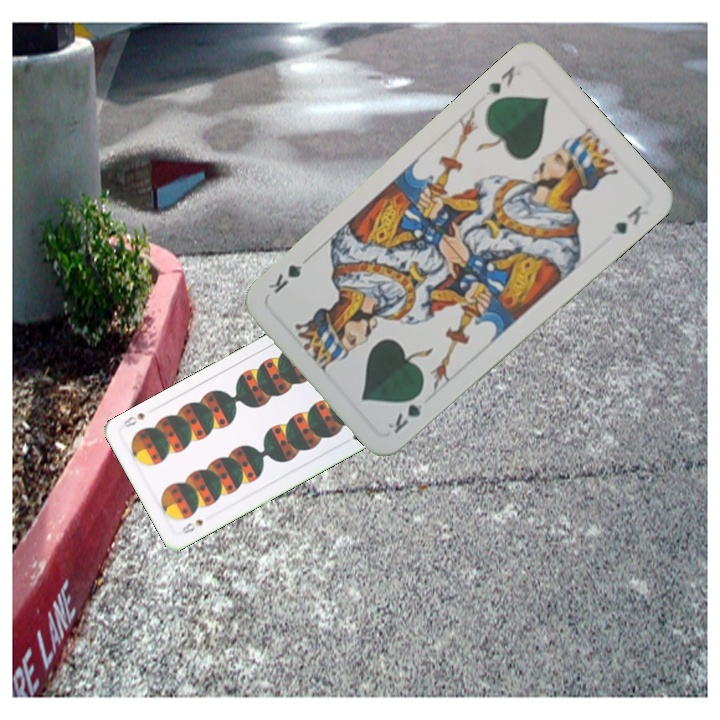GK: (383, 386, 426, 437), (483, 61, 518, 97)
S8: (178, 515, 206, 537)
